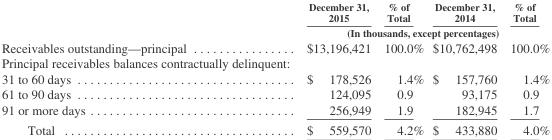table: (0, 0, 549, 137)
table column: (0, 0, 245, 137), (245, 0, 376, 137), (427, 0, 502, 137), (376, 0, 427, 137), (502, 0, 549, 137)
table column header: (0, 0, 549, 39)
table projected row header: (0, 54, 549, 70)
table row: (0, 0, 549, 24), (0, 101, 549, 119), (0, 119, 549, 137), (0, 54, 549, 70), (0, 85, 549, 101), (0, 24, 549, 39), (0, 39, 549, 54), (0, 70, 549, 85)
table spanning cell: (245, 24, 549, 39)
